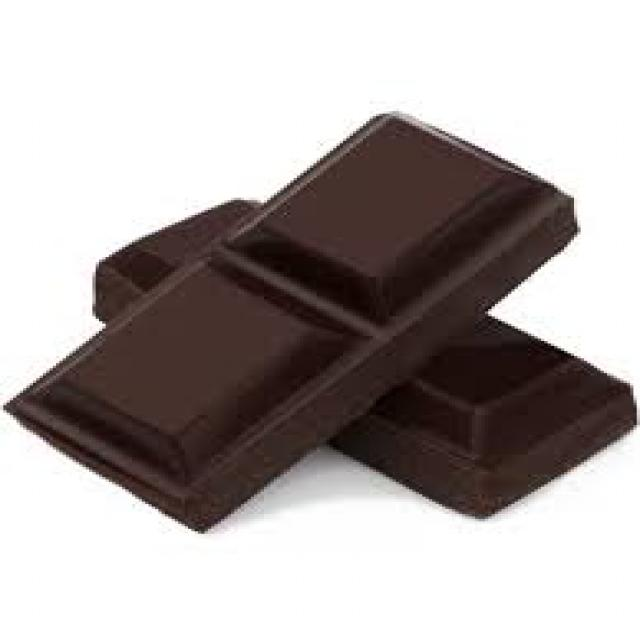chocolate: (4, 99, 638, 535)
